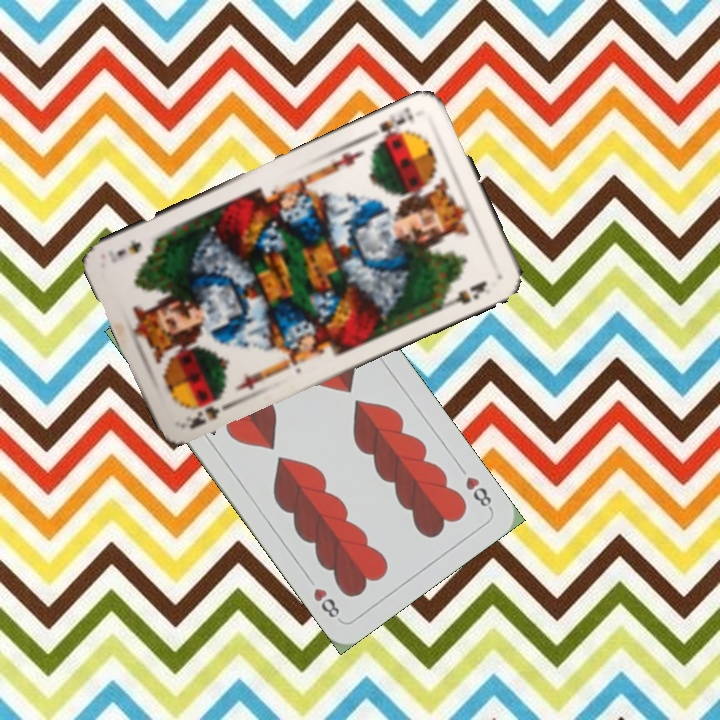H8: (461, 472, 495, 513)
SK: (372, 103, 416, 147), (185, 397, 239, 432)
